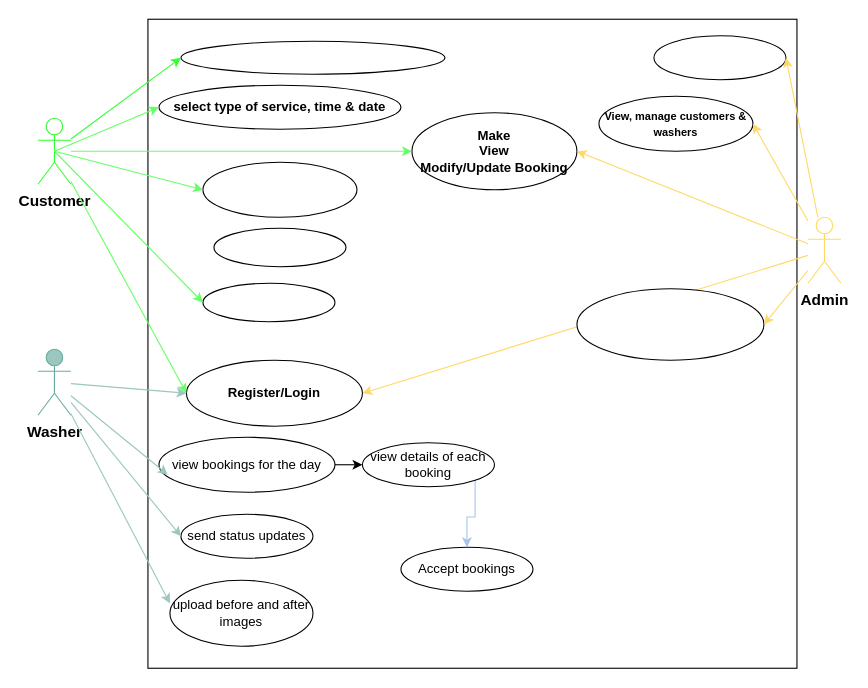
Image size: 868x688. Some labels were removed from this diagram. The centre of each missing label's shape, as x and y in pixels:
"leave reviews" goes at point 268,302.
"make payments" goes at point 279,247.
"Manage Users" goes at point 719,57.
"Receive & Check Notifications" goes at point 279,189.
"update service locations, service types" goes at point 670,324.
"View Nearby Wash Locations" goes at point 312,57.
